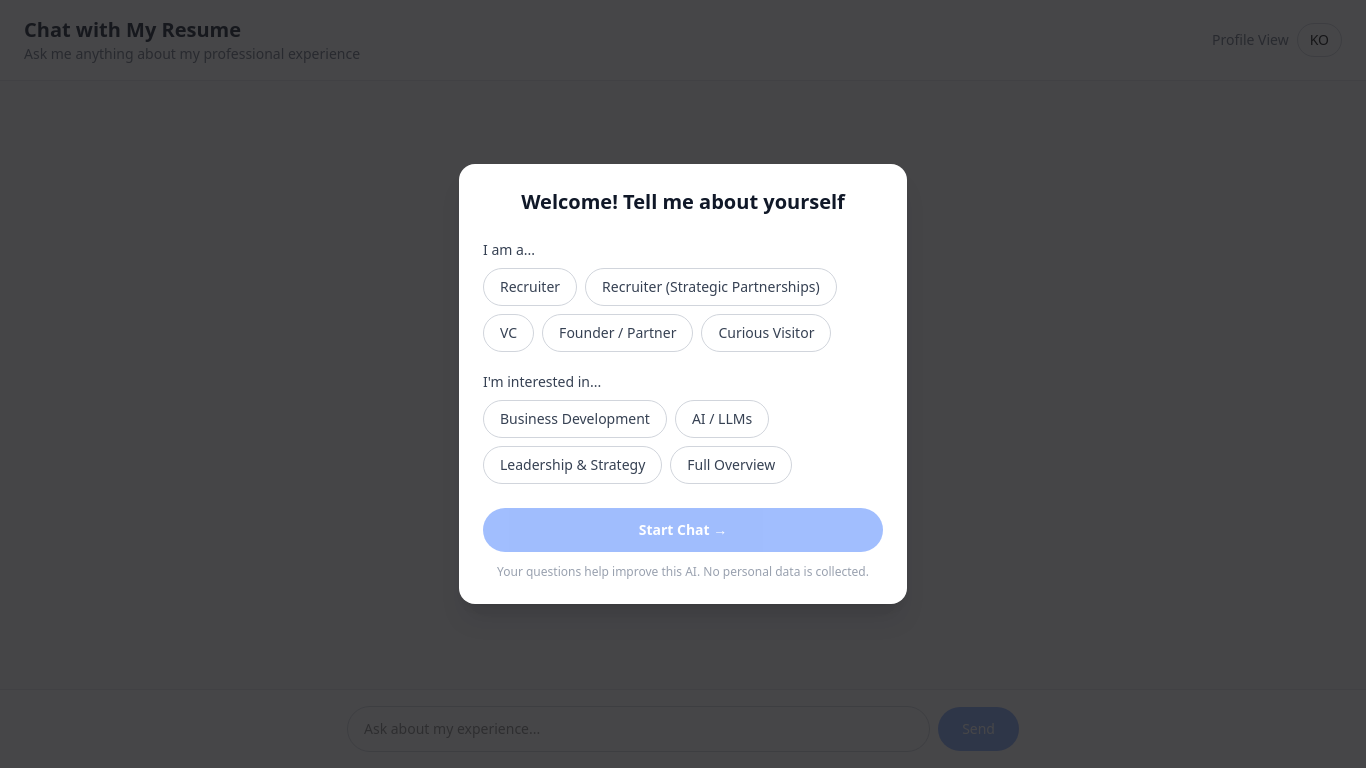
Scenario: legacy non-2xx welcome uses the static fallback
Click the radio button labelled "Recruiter": (530, 287) [483,268,577,306]
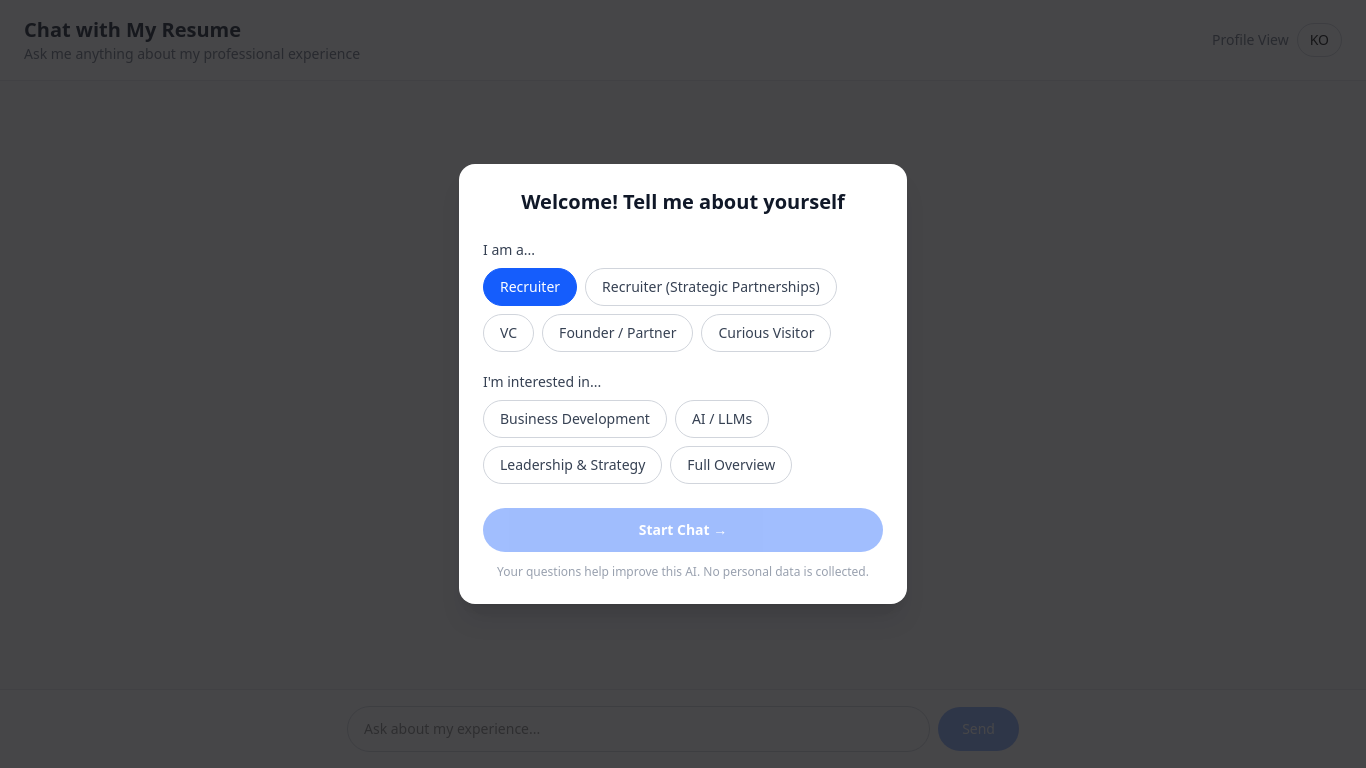
Click the radio button labelled "Business Development": (575, 419) [483,400,667,438]
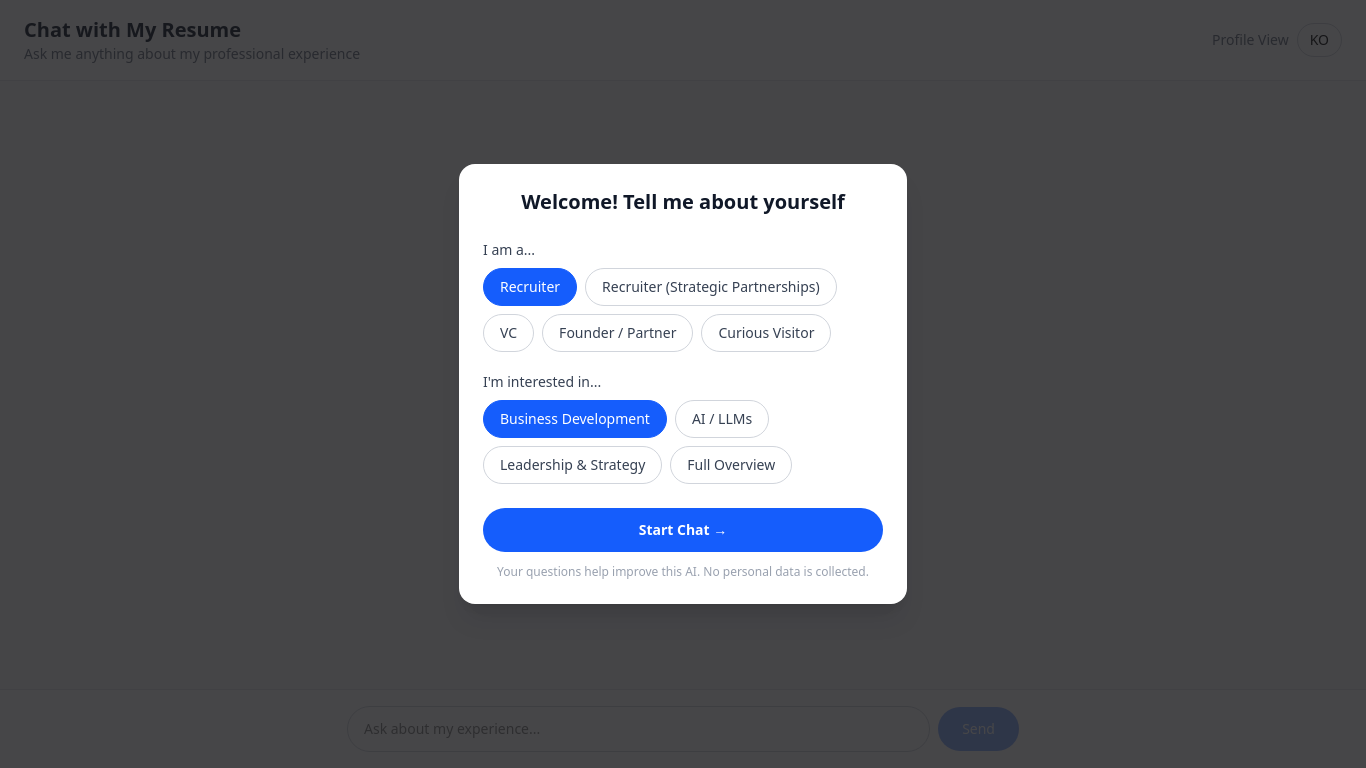
Click the button "Start Chat →": (683, 530) [483,508,883,552]
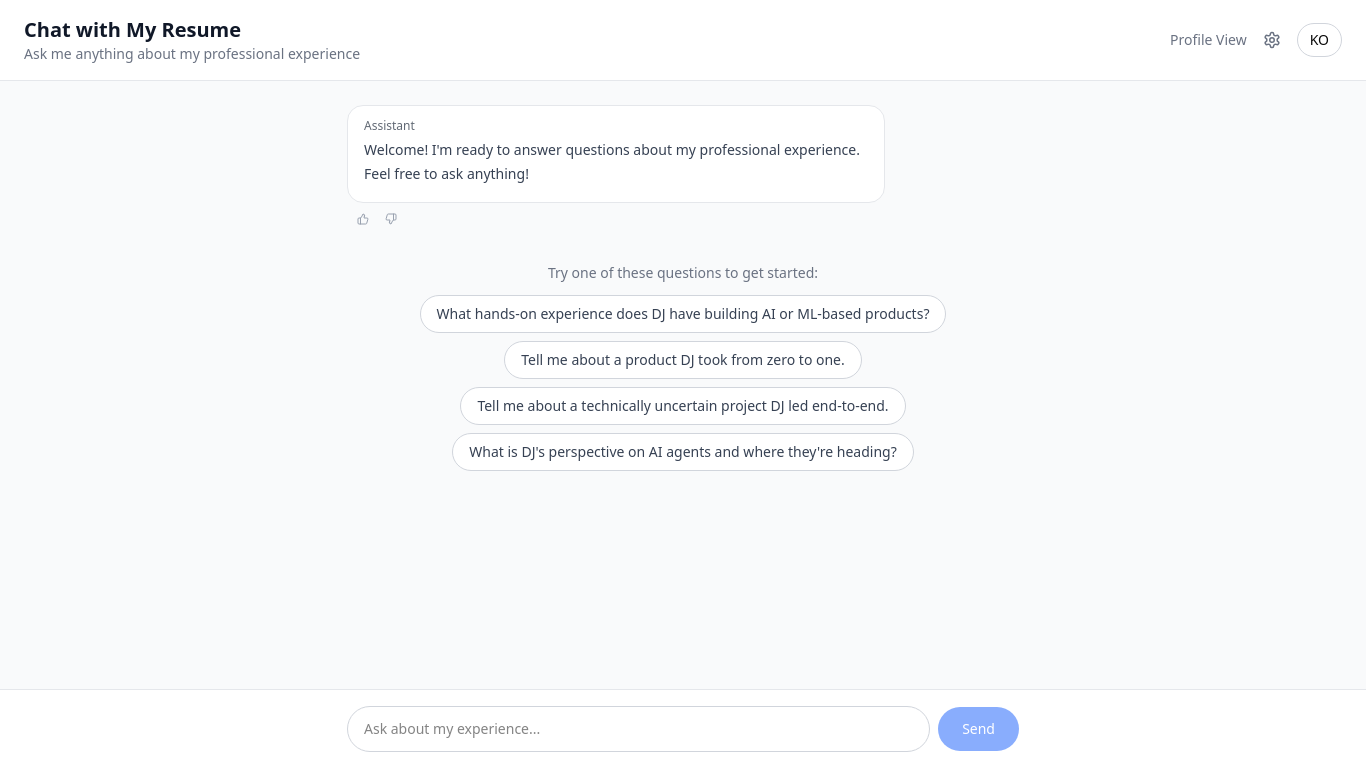
Result: the button "Start Chat" is gone
Result: the text "Feel free to ask anything!" is shown at [364,140,860,183]
